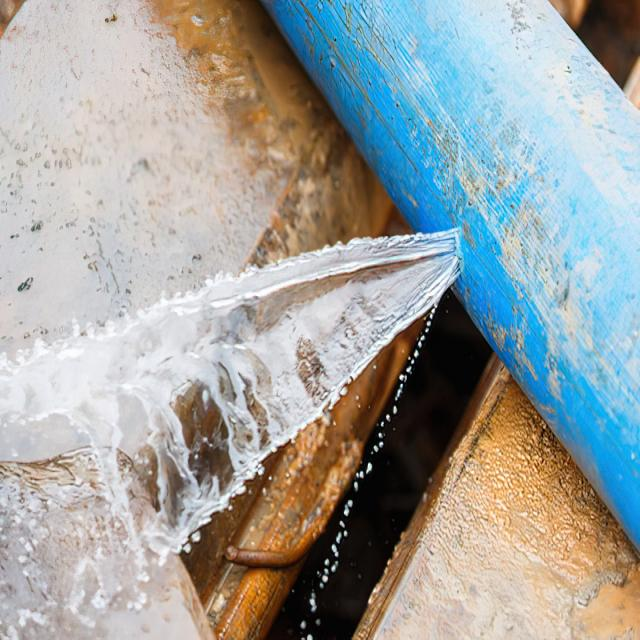leak: (0, 226, 466, 640)
